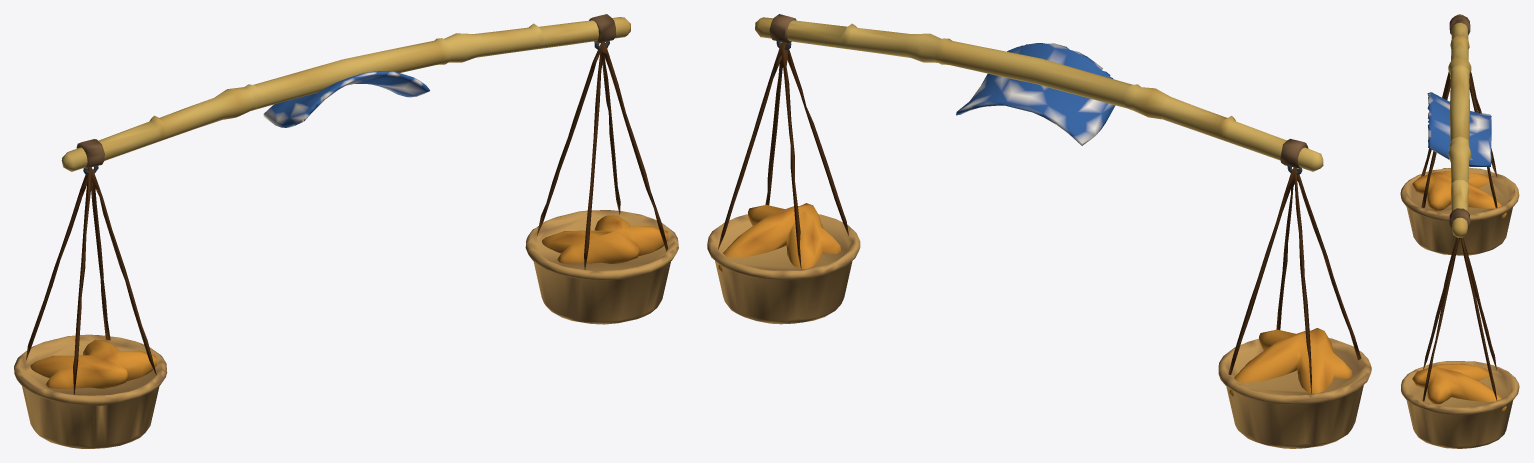
File: dongganh.glb
3 renders of one model, left to right at view 1: azimuth 30°, elevation 25°; view 2: azimuth 150°, elevation 25°; view 3: azimuth 270°, elevation 25°, orthographic. The views are drawn at different scales.
Visible parts, largest first — view 1: Thung_May, Don_Tre, Banh_Thung, Day_Thung, Khan_Lot, Day_Quan; view 2: Thung_May, Don_Tre, Banh_Thung, Day_Thung, Khan_Lot, Day_Quan; view 3: Thung_May, Banh_Thung, Don_Tre, Day_Thung, Khan_Lot, Day_Quan.
Part boxes in pixels (left/top/right/bottom): Thung_May: left=14, top=210, right=678, bottom=448; Don_Tre: left=61, top=17, right=630, bottom=171; Banh_Thung: left=30, top=215, right=668, bottom=388; Day_Thung: left=26, top=42, right=668, bottom=394; Khan_Lot: left=263, top=71, right=429, bottom=127; Day_Quan: left=76, top=14, right=615, bottom=168; Thung_May: left=707, top=214, right=1371, bottom=448; Don_Tre: left=755, top=17, right=1323, bottom=171; Banh_Thung: left=718, top=203, right=1352, bottom=397; Day_Thung: left=718, top=42, right=1360, bottom=393; Khan_Lot: left=956, top=43, right=1115, bottom=145; Day_Quan: left=769, top=14, right=1308, bottom=168; Thung_May: left=1400, top=167, right=1519, bottom=448; Banh_Thung: left=1412, top=171, right=1506, bottom=411; Don_Tre: left=1448, top=14, right=1471, bottom=237; Day_Thung: left=1421, top=72, right=1497, bottom=401; Khan_Lot: left=1427, top=92, right=1491, bottom=166; Day_Quan: left=1449, top=15, right=1470, bottom=228.
Size of the model in its own units: 0.6804 by 0.3057 by 0.1406.
